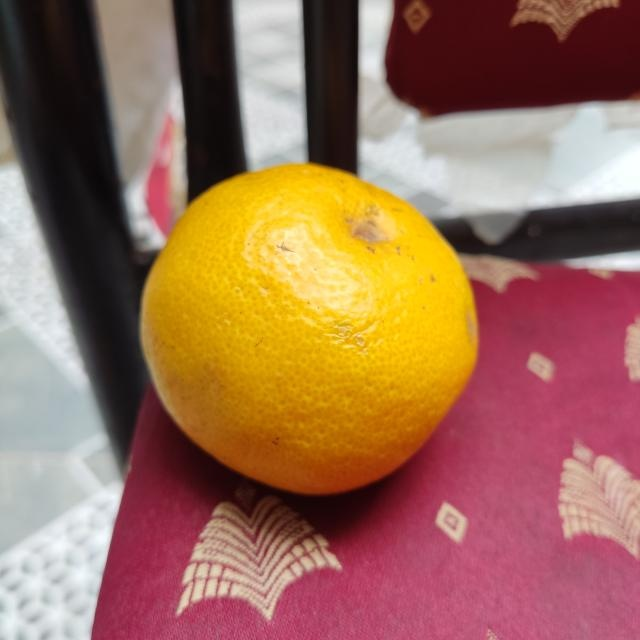agrume: (134, 161, 480, 499)
